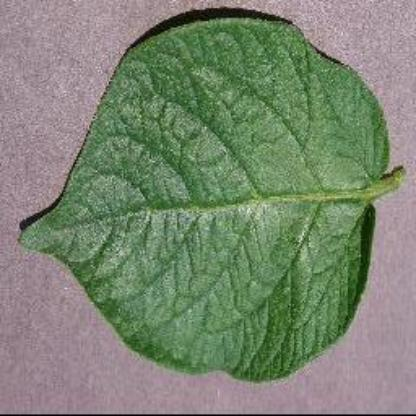Healthy-plant: (23, 5, 404, 387)
